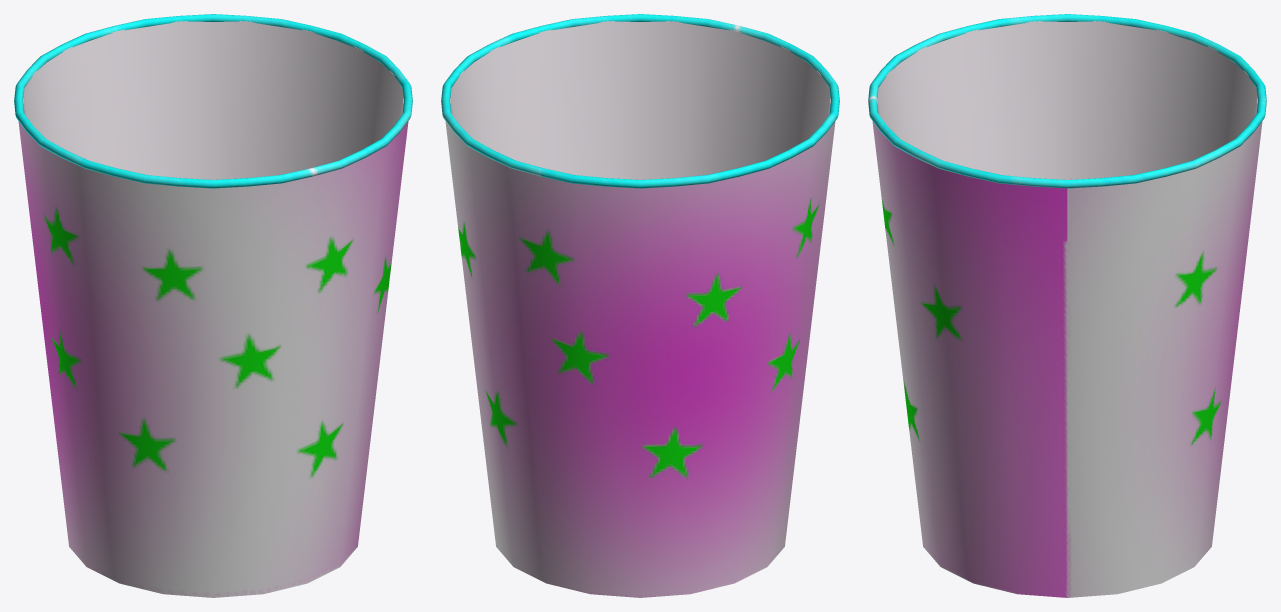
The model's file is cylinder_train_wood_brick_c1.dae.
The picture shows the model from 3 angles, left to right: view 1: azimuth 30°, elevation 25°; view 2: azimuth 150°, elevation 25°; view 3: azimuth 270°, elevation 25°; orthographic projection.
Visible parts, largest first — view 1: aws_Trash_01_visual; view 2: aws_Trash_01_visual; view 3: aws_Trash_01_visual.
Part boxes in pixels (<box>): aws_Trash_01_visual: <box>14,14,412,597</box>; aws_Trash_01_visual: <box>441,14,839,597</box>; aws_Trash_01_visual: <box>868,14,1266,597</box>.
Bounding box in the file's own units: 28.5 × 28.28 × 34.34.
Materials: 1 (1 with a texture image).
